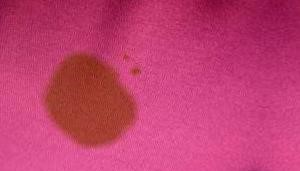stain: (45, 52, 143, 150), (129, 67, 144, 79), (121, 52, 132, 61)
